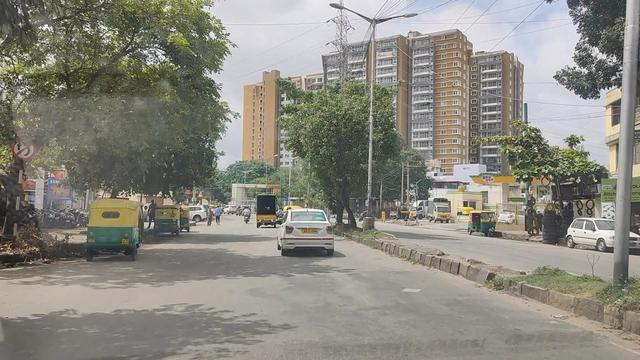LMV: (89, 197, 144, 259), (270, 210, 335, 257)
